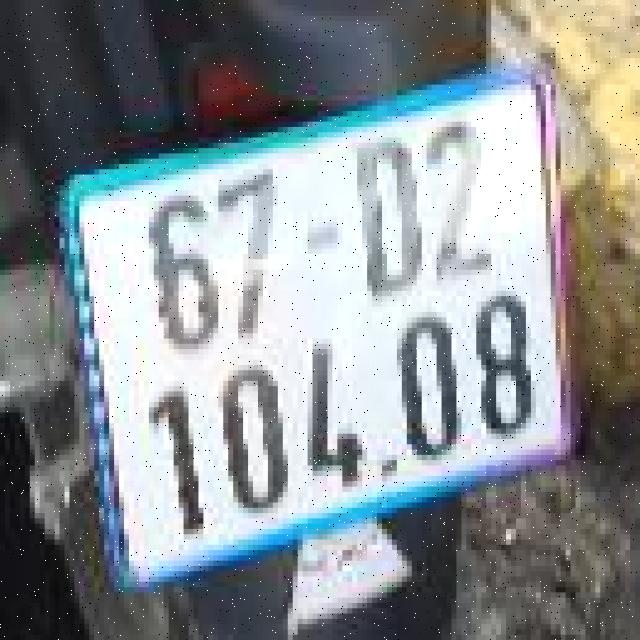0: (209, 354, 303, 522), (391, 301, 472, 472)
1: (137, 370, 223, 547)
2: (418, 106, 507, 294)
4: (295, 330, 375, 496)
6: (141, 188, 228, 361)
7: (211, 155, 291, 348)
8: (466, 283, 546, 449)
D: (343, 120, 435, 310)
